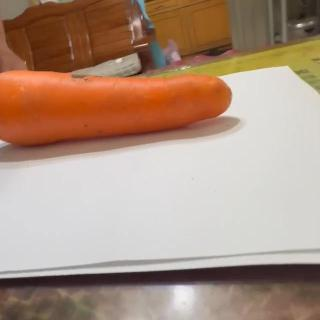carrot: (0, 70, 233, 148)
